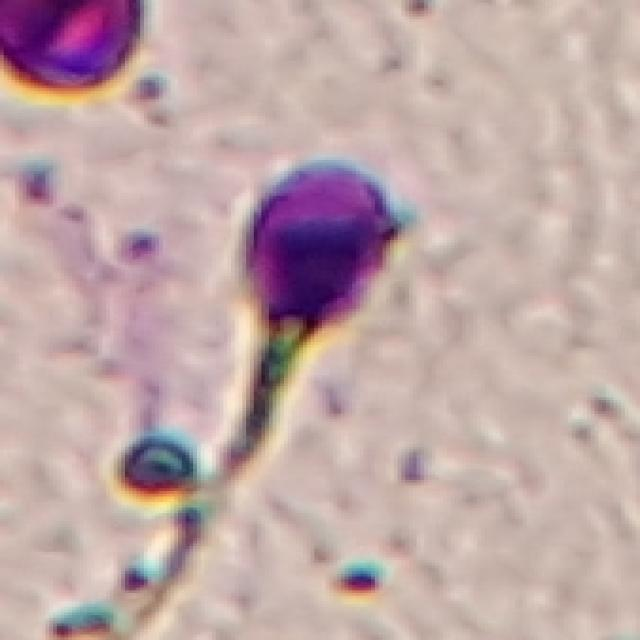normal sperm: (232, 157, 397, 446)
